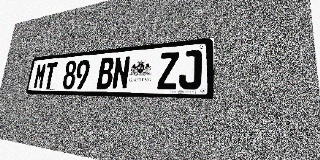8: (62, 60, 78, 89)
9: (74, 59, 91, 89)
B: (96, 57, 115, 89)
J: (178, 50, 202, 90)
M: (33, 63, 47, 89)
N: (111, 56, 131, 89)
T: (43, 62, 58, 89)
Z: (157, 52, 179, 90)
